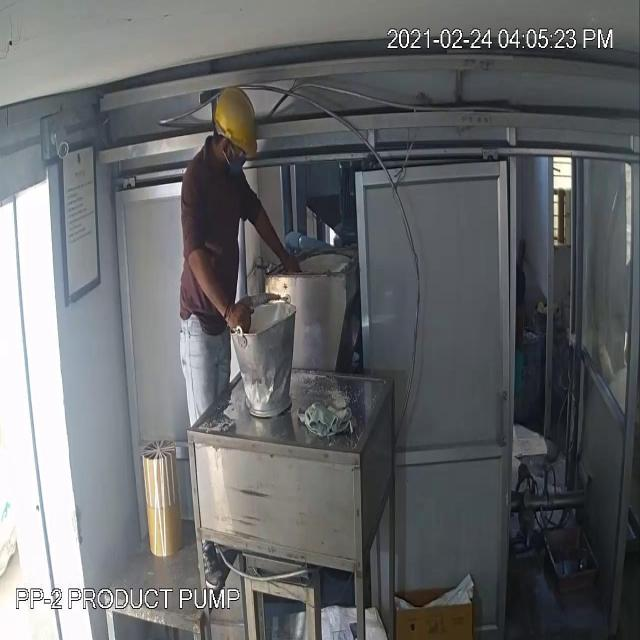helmet: (208, 80, 270, 162)
